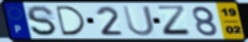2: (95, 5, 125, 37)
8: (191, 5, 219, 37)
D: (53, 5, 88, 37)
S: (25, 4, 59, 37)
U: (121, 5, 157, 37)
Z: (156, 5, 194, 37)
